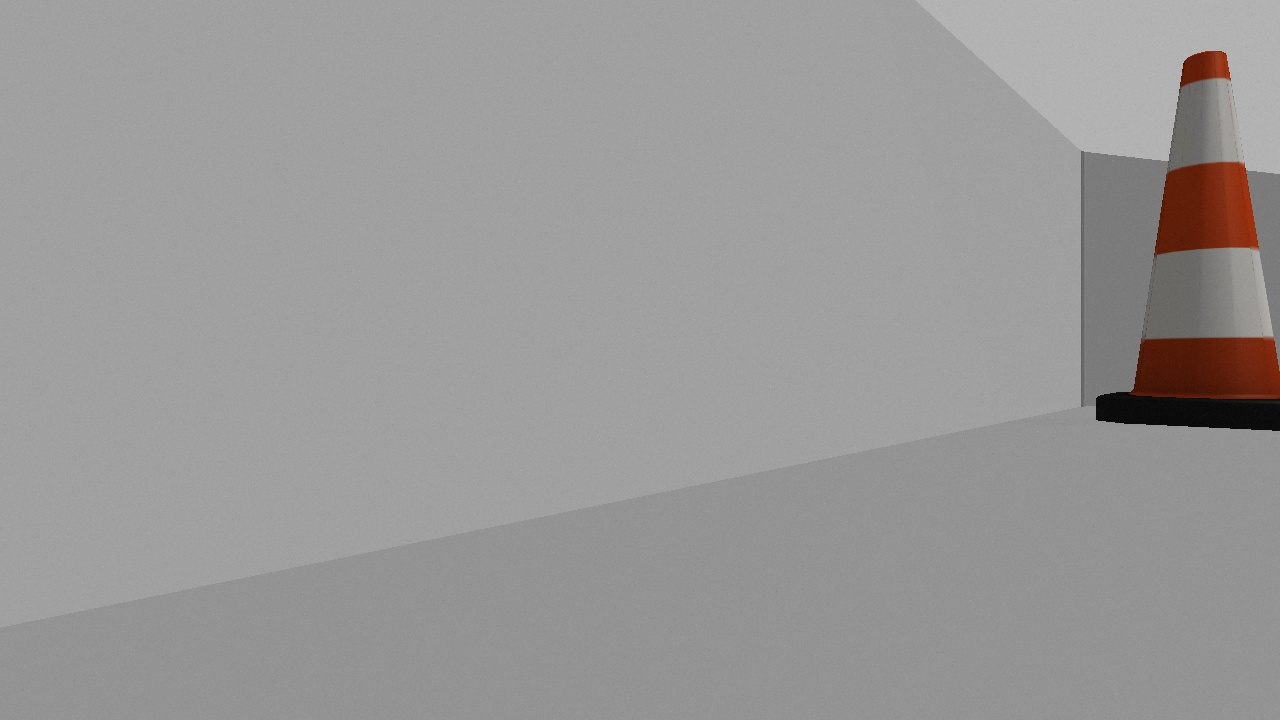barricade: (1081, 36, 1280, 445)
